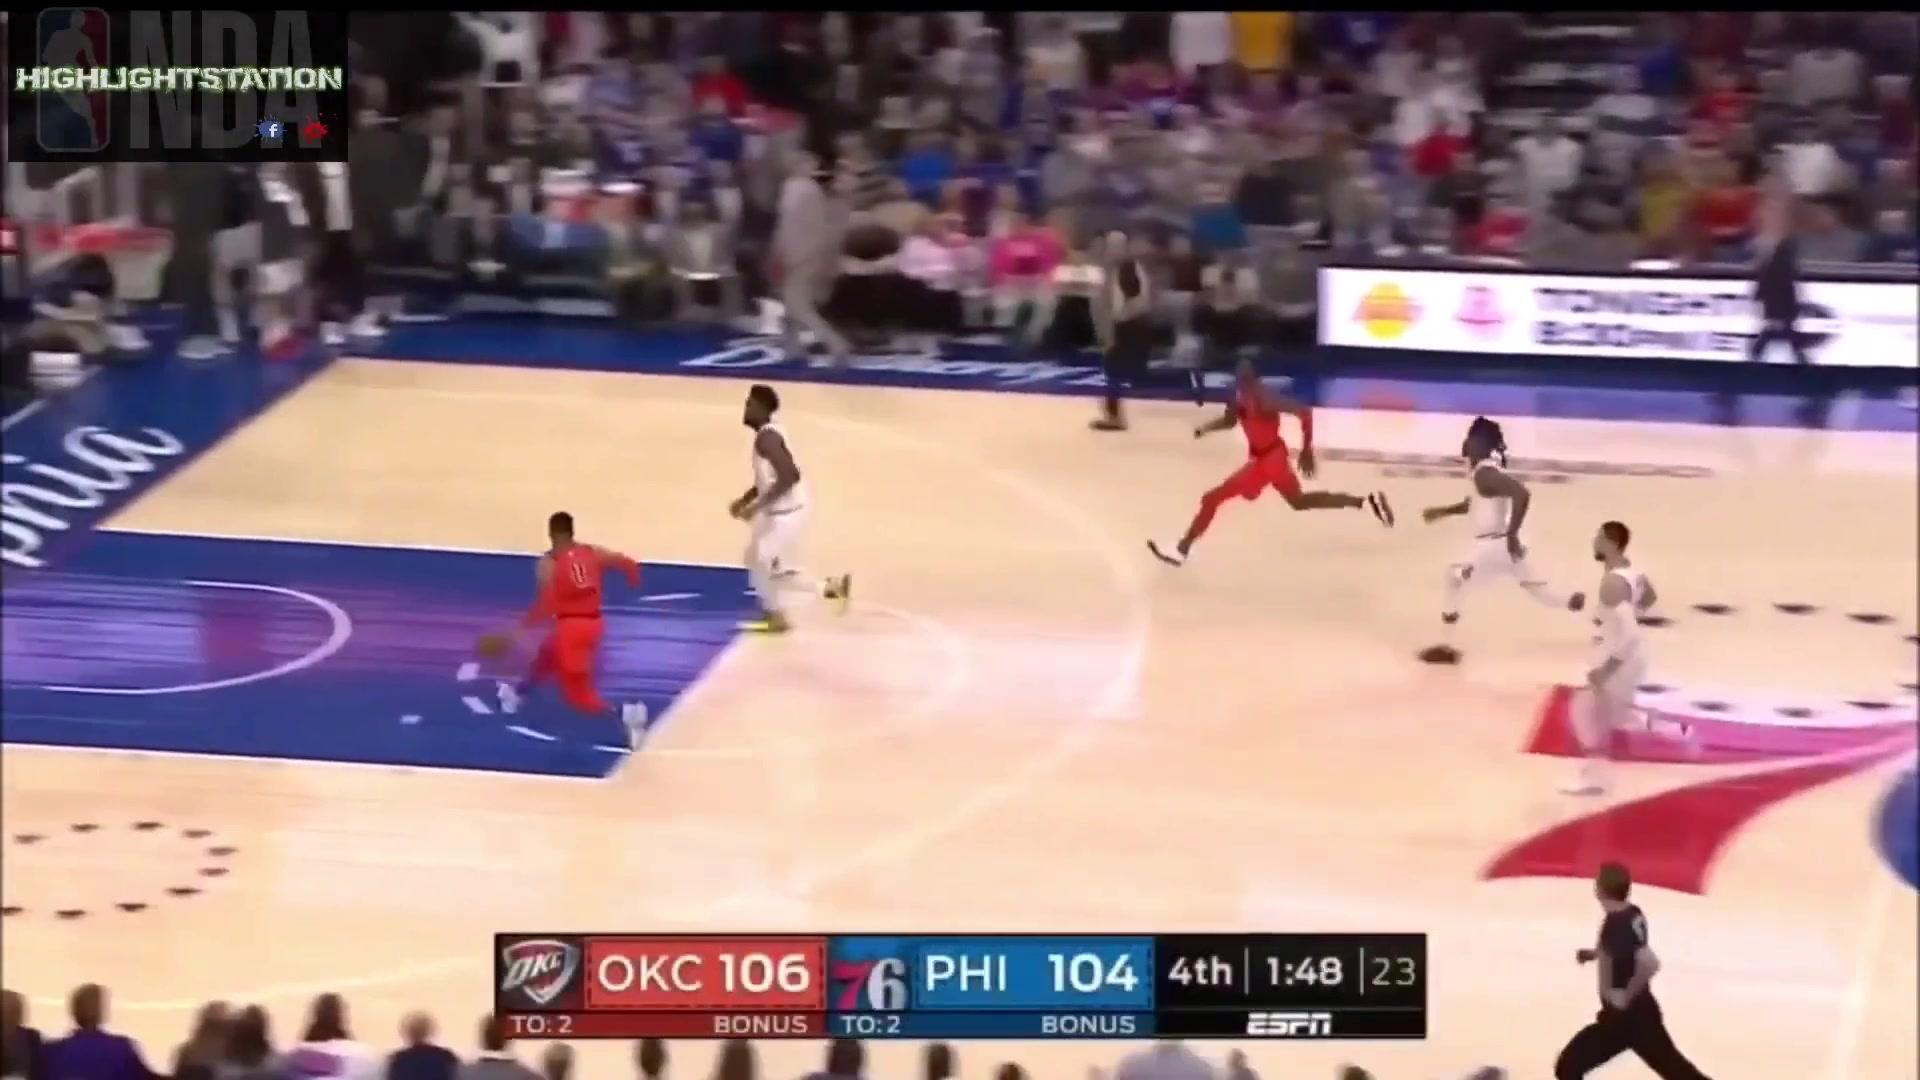no_foul: (510, 360, 852, 752)
